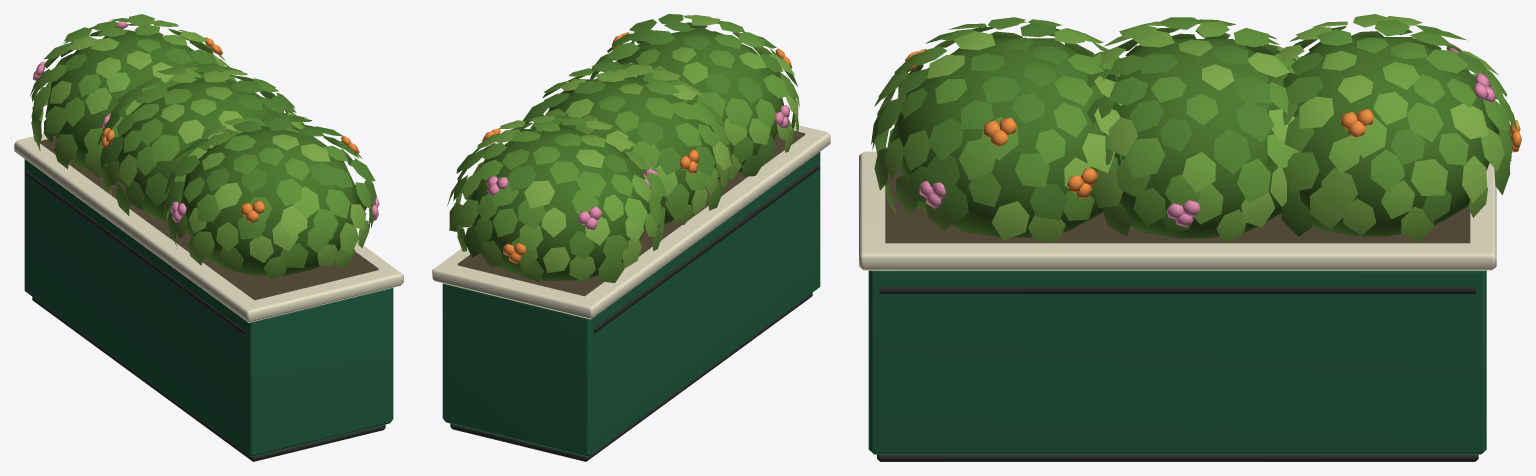
Rendered from deck_planter.glb.
3 renders of one model, left to right at view 1: azimuth 30°, elevation 25°; view 2: azimuth 150°, elevation 25°; view 3: azimuth 270°, elevation 25°, orthographic. The views are drawn at different scales.
Parts seen in each view (by area): view 1: Box, Cap, Shrub2Core, Shrub0Core, Shrub1Core, Soil, Foot, Groove-1, Shrub1Leaf33, Shrub2Leaf49, Shrub2Leaf57, Shrub1Leaf67 (+23 smaller); view 2: Box, Cap, Shrub0Core, Shrub2Core, Shrub1Core, Soil, Foot, Groove-1, Shrub0Leaf27, Shrub2Leaf43, Shrub0Leaf82, Shrub0Leaf22 (+28 smaller); view 3: Box, Cap, Shrub2Core, Shrub0Core, Shrub1Core, Soil, Foot, Groove1, Shrub1Leaf47, Shrub1Leaf42, Shrub0Leaf68, Shrub0Leaf60 (+57 smaller).
Boxes of the visible parts, x1=… form: Box: x1=24, y1=159, x2=393, y2=456; Cap: x1=14, y1=134, x2=403, y2=322; Shrub2Core: x1=181, y1=125, x2=359, y2=275; Shrub0Core: x1=45, y1=29, x2=204, y2=171; Shrub1Core: x1=116, y1=77, x2=277, y2=221; Soil: x1=40, y1=137, x2=378, y2=300; Foot: x1=32, y1=297, x2=385, y2=461; Groove-1: x1=25, y1=171, x2=245, y2=336; Shrub1Leaf33: x1=152, y1=134, x2=179, y2=161; Shrub2Leaf49: x1=280, y1=205, x2=307, y2=237; Shrub2Leaf57: x1=313, y1=208, x2=338, y2=239; Shrub1Leaf67: x1=145, y1=172, x2=169, y2=206; Box: x1=442, y1=152, x2=820, y2=456; Cap: x1=432, y1=123, x2=830, y2=319; Shrub0Core: x1=466, y1=126, x2=650, y2=280; Shrub2Core: x1=617, y1=27, x2=782, y2=178; Shrub1Core: x1=548, y1=76, x2=716, y2=226; Soil: x1=457, y1=130, x2=805, y2=296; Foot: x1=450, y1=293, x2=812, y2=461; Groove-1: x1=593, y1=164, x2=819, y2=333; Shrub0Leaf27: x1=524, y1=180, x2=554, y2=208; Shrub2Leaf43: x1=725, y1=98, x2=752, y2=128; Shrub0Leaf82: x1=543, y1=247, x2=570, y2=272; Shrub0Leaf22: x1=576, y1=171, x2=606, y2=196; Box: x1=868, y1=270, x2=1486, y2=454; Cap: x1=859, y1=151, x2=1496, y2=270; Shrub2Core: x1=889, y1=38, x2=1104, y2=237; Shrub0Core: x1=1283, y1=37, x2=1496, y2=236; Shrub1Core: x1=1104, y1=39, x2=1283, y2=238; Soil: x1=885, y1=169, x2=1470, y2=243; Foot: x1=877, y1=454, x2=1478, y2=461; Groove1: x1=879, y1=287, x2=1475, y2=293; Shrub1Leaf47: x1=1125, y1=137, x2=1164, y2=178; Shrub1Leaf42: x1=1214, y1=129, x2=1250, y2=174; Shrub0Leaf68: x1=1321, y1=168, x2=1358, y2=212; Shrub0Leaf60: x1=1282, y1=152, x2=1319, y2=192.
Bounding box in the file's own units: 0.5456 × 0.7747 × 1.21.
